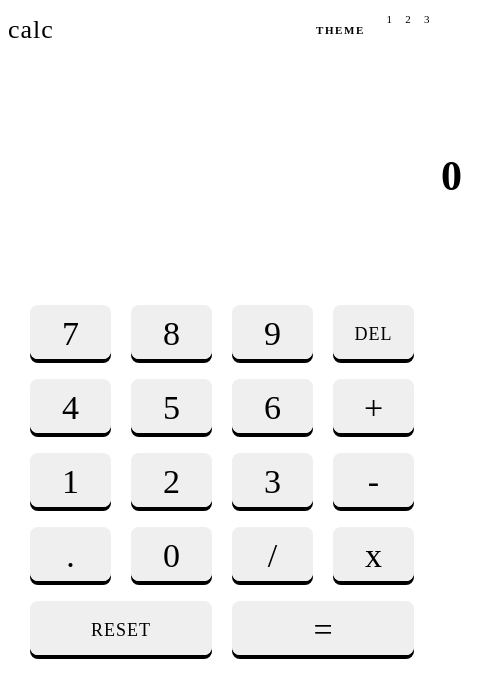
it: Calculator › Displays proper item typed on keys
Click the button "1": (70, 480) [30, 452, 111, 506]
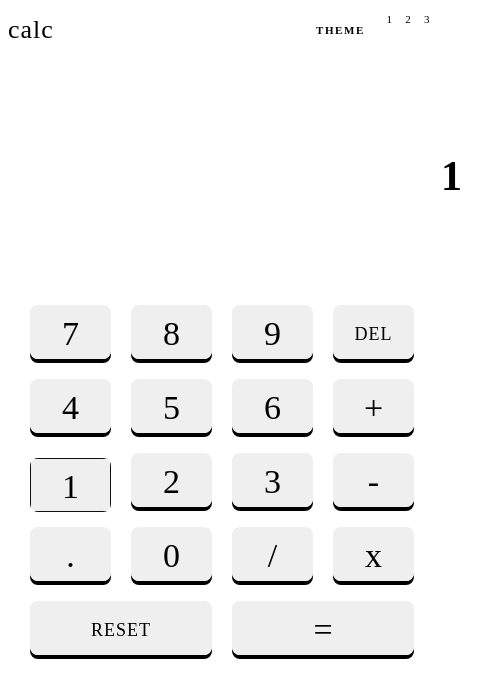
Click the button "2": (172, 480) [131, 452, 212, 506]
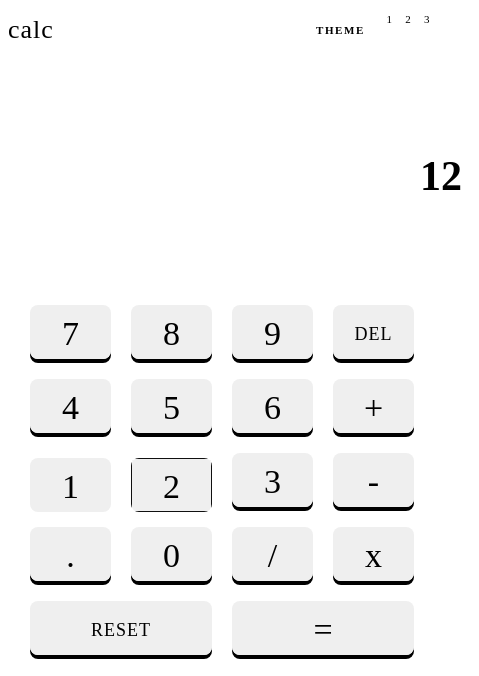
Click the button "3": (272, 480) [232, 452, 313, 506]
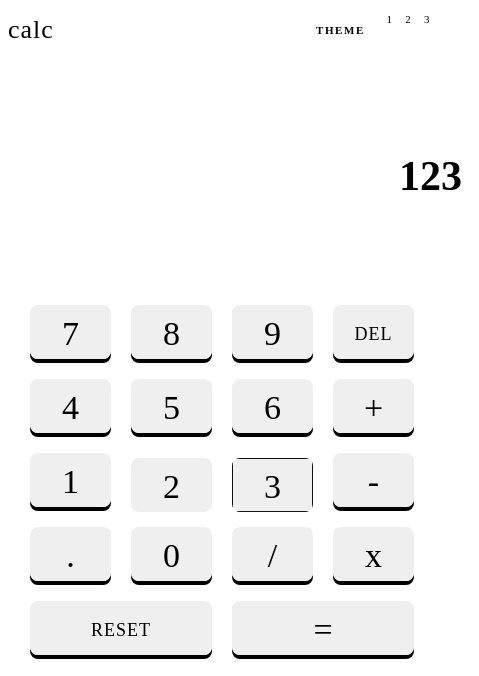
Click the button "4": (70, 406) [30, 378, 111, 432]
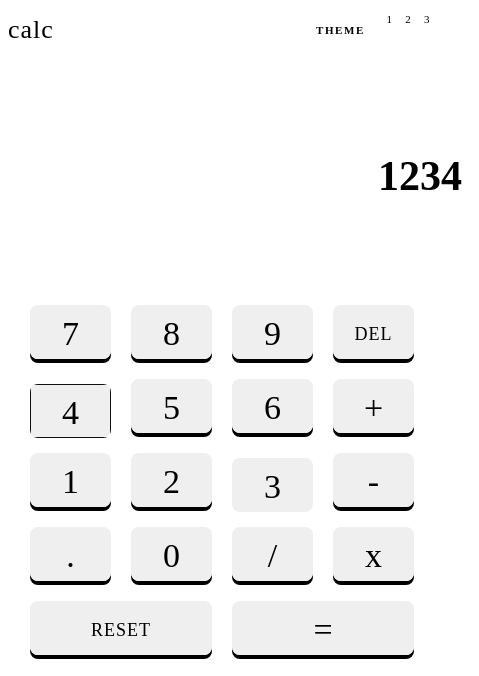
Click the button "5": (172, 406) [131, 378, 212, 432]
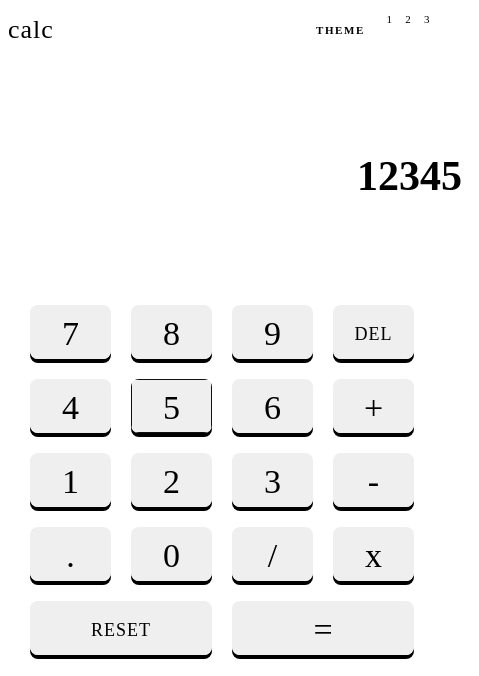
Expected: the heading "12345" is shown, [357, 152, 462, 200]
